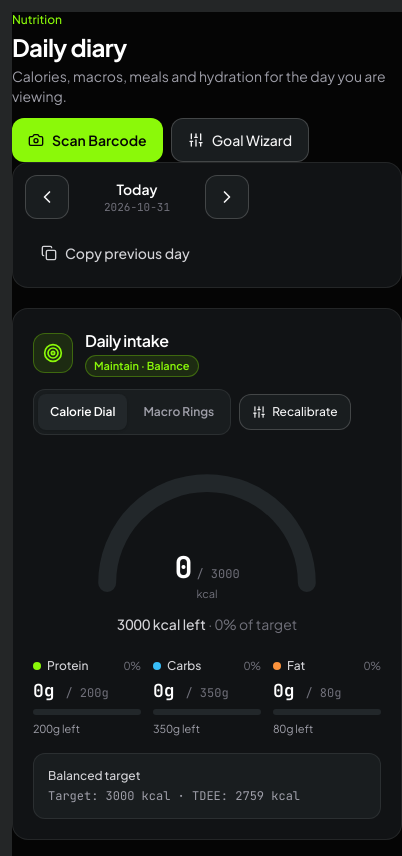
Test: NutritionView: targets shown for the viewed day › a past day with a stored log shows that day's saved targets, with a caption
Click the button titled "Previous Day". click: x=47, y=197
box: [25,175,69,219]
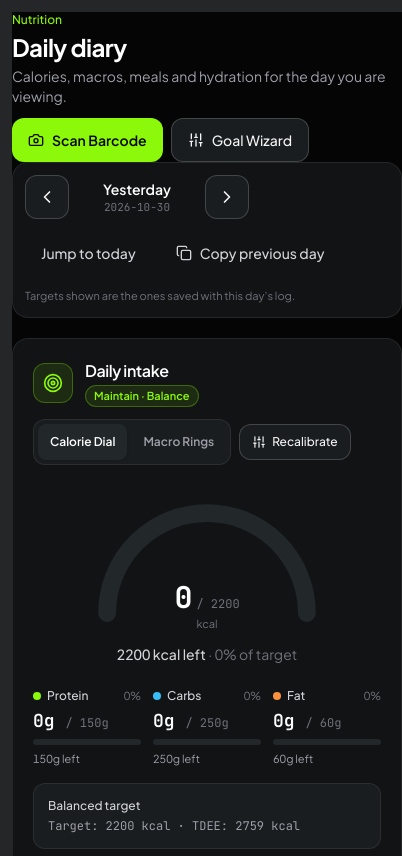
Expected: the text "/ 2200" is shown, [196,596,240,612]
Expected: the text "/ 150g" is shown, [65,715,109,731]
Expected: the text "/ 250g" is shown, [185,715,229,731]
